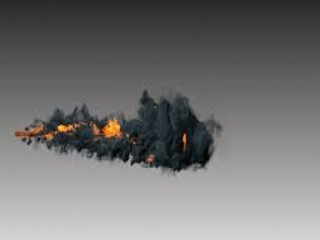fire: (14, 119, 123, 144)
smoke: (106, 91, 230, 181)
